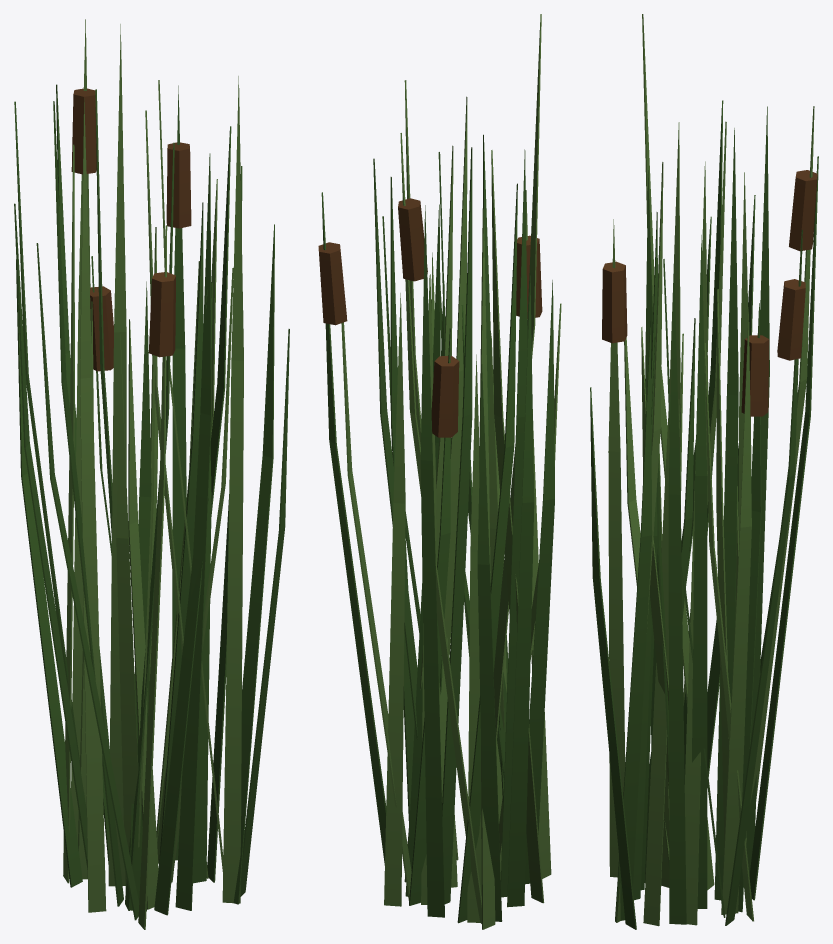
The model's file is reeds.fbx.
3 views of the same model, side by side, from view 1: azimuth 30°, elevation 25°; view 2: azimuth 150°, elevation 25°; view 3: azimuth 270°, elevation 25° (orthographic). The views are drawn at different scales.
Visible parts, largest first — view 1: reeds_0, reeds_4, reeds_1, reeds_2, reeds_3, reeds_5; view 2: reeds_3, reeds_0, reeds_5, reeds_2, reeds_4, reeds_1; view 3: reeds_3, reeds_5, reeds_2, reeds_0, reeds_4, reeds_1.
Part boxes in pixels (x1,y1,x2,y2): reeds_0: (53, 19, 211, 910); reeds_4: (16, 224, 289, 909); reeds_1: (36, 243, 233, 920); reeds_2: (95, 76, 243, 903); reeds_3: (14, 179, 217, 929); reeds_5: (14, 80, 242, 912); reeds_3: (341, 190, 551, 907); reeds_0: (318, 14, 541, 929); reeds_5: (390, 96, 544, 923); reeds_2: (373, 80, 472, 904); reeds_4: (382, 216, 504, 922); reeds_1: (431, 252, 561, 887); reeds_3: (602, 195, 769, 921); reeds_5: (643, 106, 818, 926); reeds_2: (616, 128, 738, 925); reeds_0: (633, 14, 817, 925); reeds_4: (590, 289, 777, 929); reeds_1: (624, 216, 711, 890).
Size of the model in its own units: 0.9316 by 3.86 by 0.9317.
